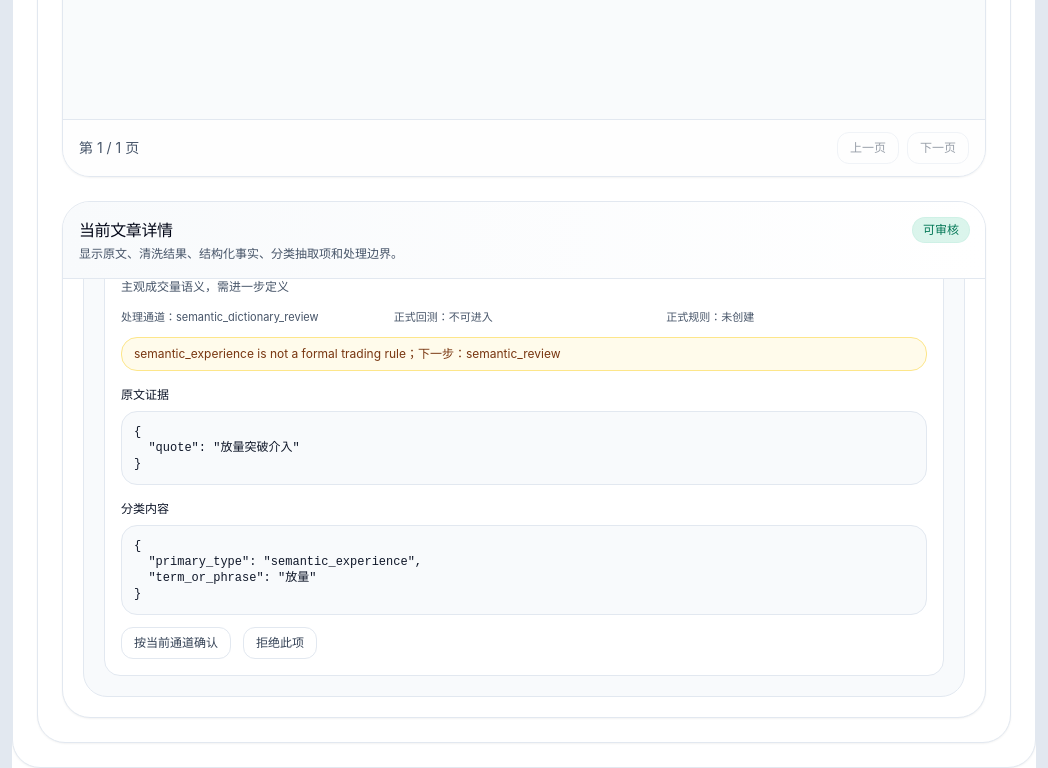
Test: ArticlesPage › runs review action from the results page
The width and height of the screenshot is (1048, 768).
(page scrolled)
Click the button "按当前通道确认" at [176, 643], box [121,627,231,659]
(page scrolled)
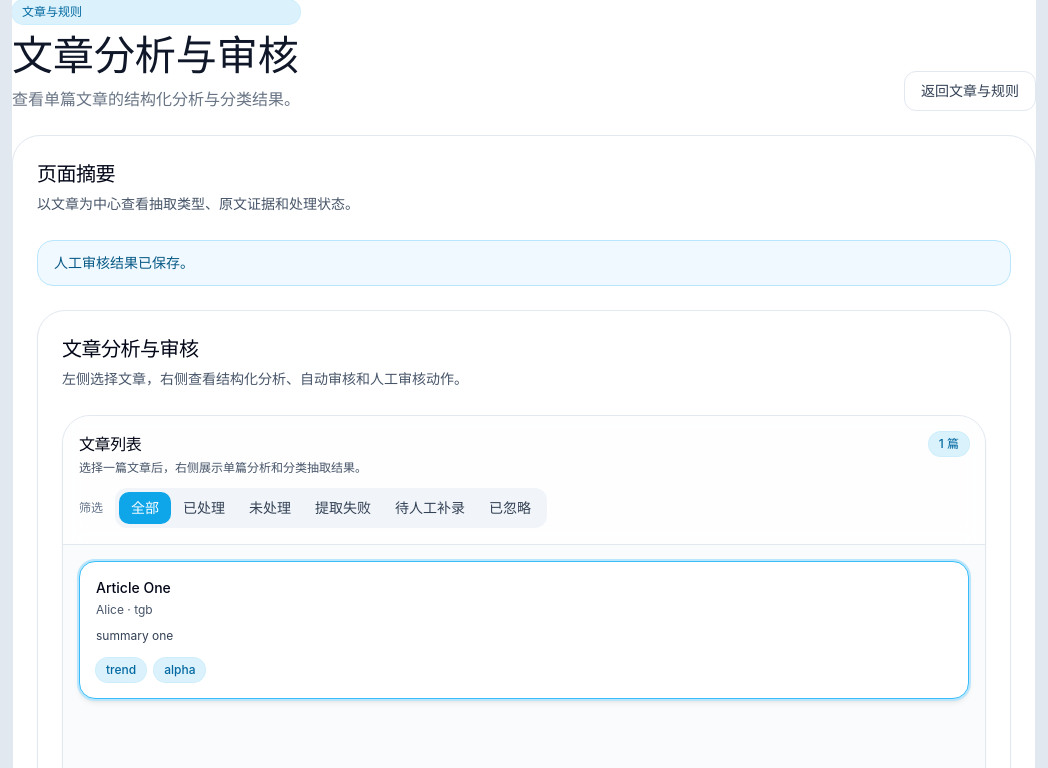
Now the text "人工审核结果已保存。" is shown, box [37,240,1011,286]
